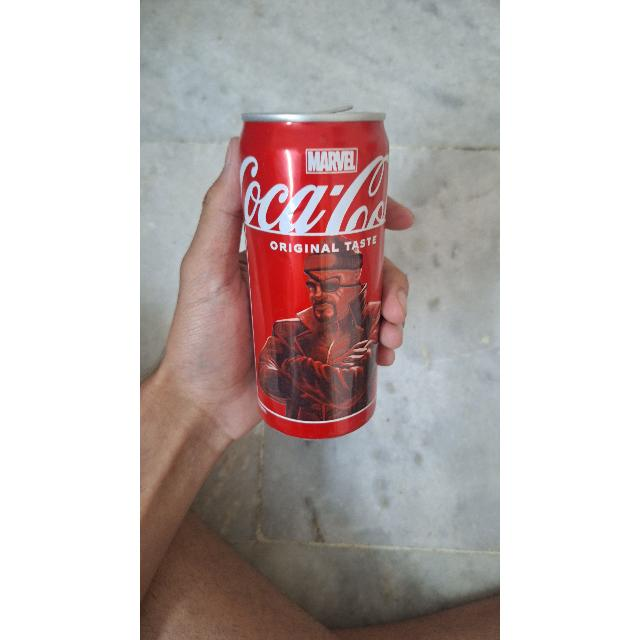Coca Cola - Marvel: (245, 110, 382, 438)
